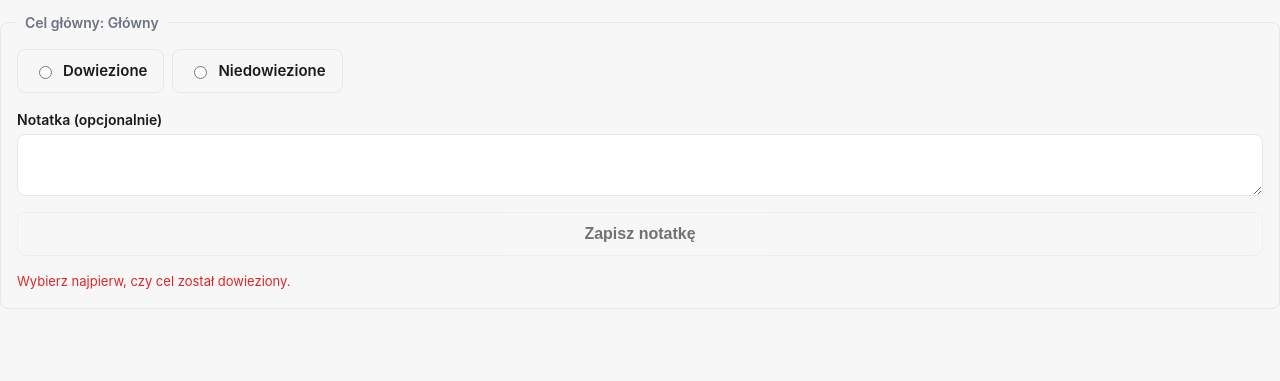
Test: GoalMarkRow (oznaczanie per-cel) › błąd zapisu → komunikat inline
The image size is (1280, 381).
Click the radio button labelled "Dowiezione". click: (46,72)
box: [39,66,52,79]
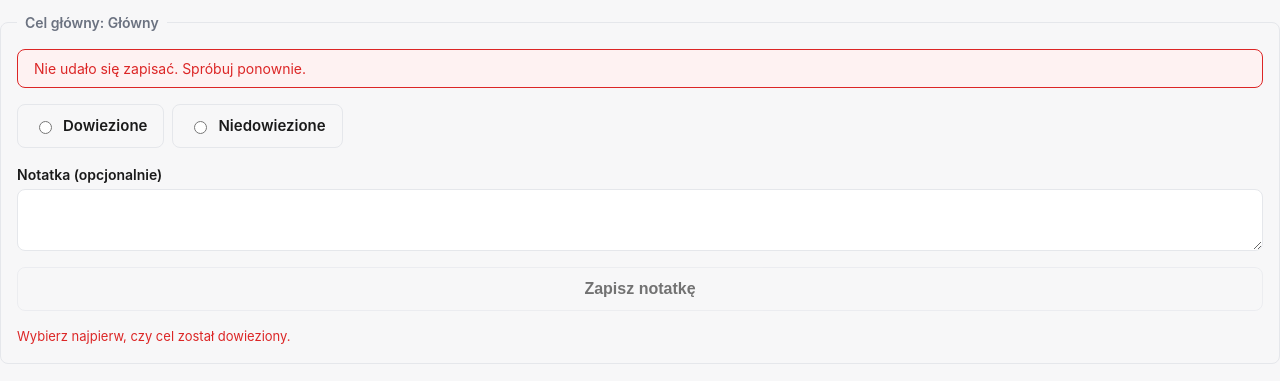
Expected: the text "Nie udało się zapisać. Spróbuj ponownie." is shown, [17,49,1263,88]
